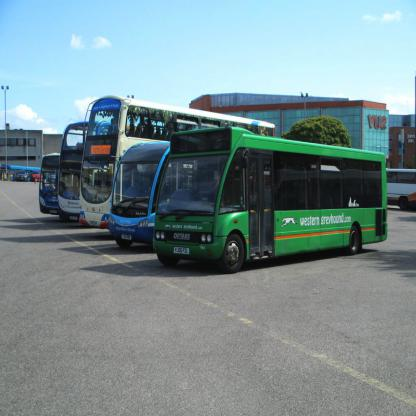Bus: (152, 124, 386, 271), (77, 96, 277, 226), (108, 141, 195, 249), (59, 118, 136, 222), (38, 150, 61, 214), (386, 168, 416, 210)
